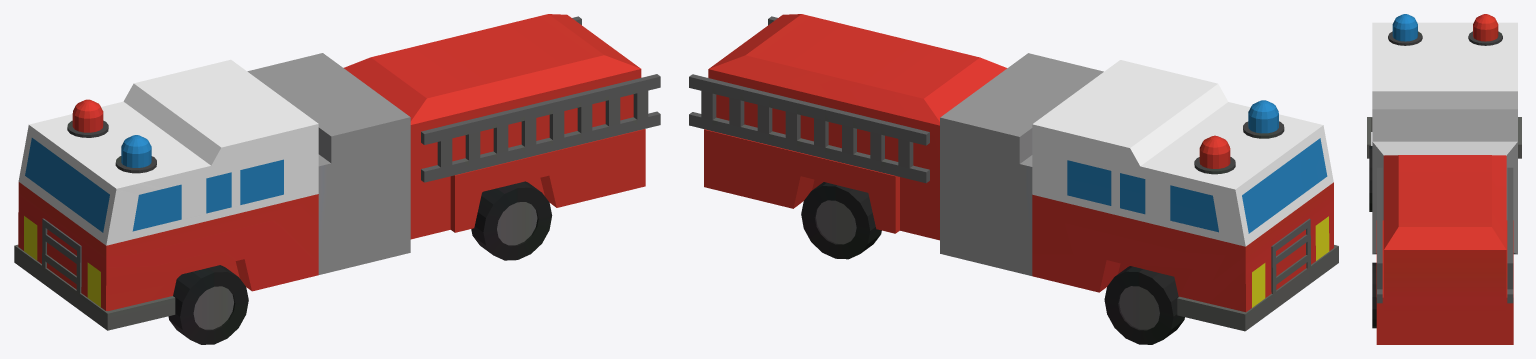
File: Firetruck.fbx
3 renders of one model, left to right at view 1: azimuth 30°, elevation 25°; view 2: azimuth 150°, elevation 25°; view 3: azimuth 270°, elevation 25°, orthographic. The views are drawn at different scales.
Parts seen in each view (by area): view 1: FiretruckBody, FiretruckTires; view 2: FiretruckBody, FiretruckTires; view 3: FiretruckBody, FiretruckTires.
Part boxes in pixels (x1,y1,x2,y2): FiretruckBody: [14, 14, 660, 330]; FiretruckTires: [168, 181, 552, 344]; FiretruckBody: [689, 14, 1338, 331]; FiretruckTires: [801, 182, 1184, 344]; FiretruckBody: [1367, 14, 1521, 344]; FiretruckTires: [1369, 146, 1376, 328].
Bounding box in the file's own units: 681 × 240 × 196.
